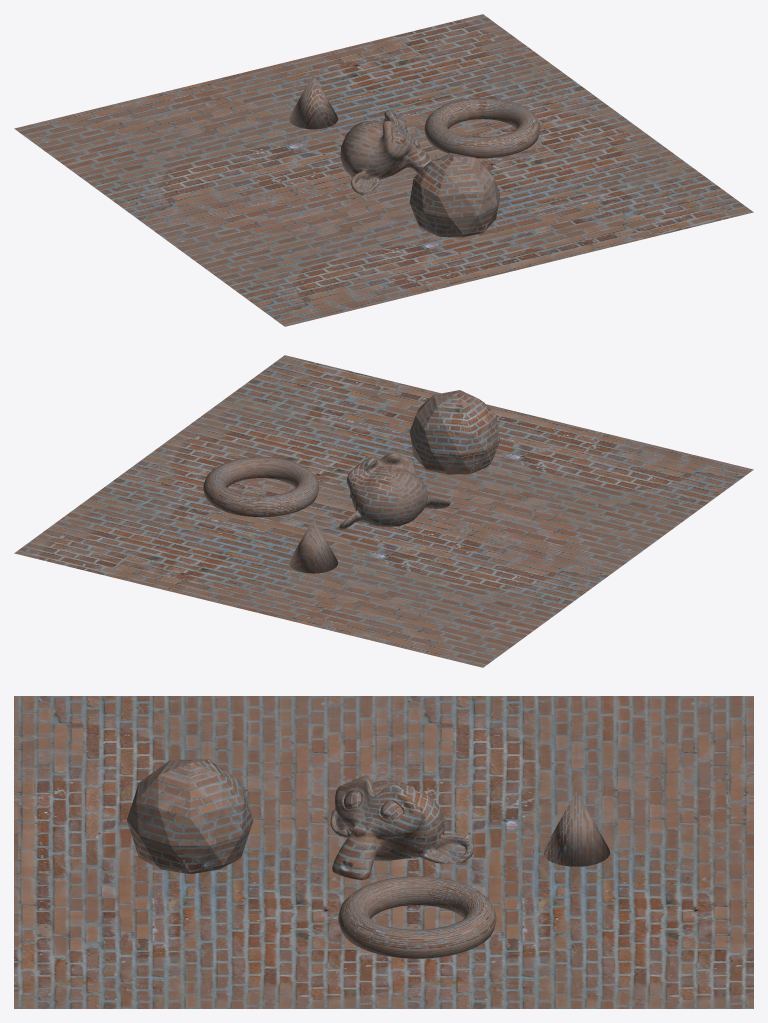
The picture shows the model from 3 angles, top to bottom: view 1: azimuth 30°, elevation 25°; view 2: azimuth 150°, elevation 25°; view 3: azimuth 270°, elevation 25°; orthographic projection. The views are drawn at different scales.
Parts seen in each view (by area): view 1: Plane, Icosphere, Torus, Suzanne, Cone; view 2: Plane, Icosphere, Suzanne, Torus, Cone; view 3: Plane, Icosphere, Suzanne, Torus, Cone.
Boxes of the visible parts, <box> form: Plane: <box>14,14,753,326</box>; Icosphere: <box>409,153,500,237</box>; Torus: <box>424,98,540,158</box>; Suzanne: <box>340,110,432,194</box>; Cone: <box>289,74,338,129</box>; Plane: <box>14,355,753,667</box>; Icosphere: <box>409,390,500,474</box>; Suzanne: <box>339,453,450,529</box>; Torus: <box>203,457,318,517</box>; Cone: <box>289,518,338,573</box>; Plane: <box>14,696,753,1008</box>; Icosphere: <box>127,759,253,873</box>; Suzanne: <box>330,775,473,879</box>; Torus: <box>338,876,496,958</box>; Cone: <box>542,791,610,866</box>.
Size of the model in its own units: 11.68 by 2 by 11.68.
Materials: 1 (1 with a texture image).
